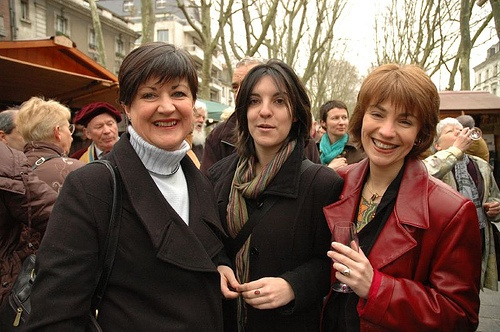head: (117, 39, 203, 155), (357, 64, 431, 168), (232, 56, 306, 160), (22, 99, 76, 164), (69, 100, 121, 162), (319, 99, 349, 142)
person: (5, 40, 232, 327), (319, 66, 485, 325), (203, 60, 342, 327), (1, 95, 85, 328), (421, 111, 500, 328), (1, 107, 28, 185), (317, 98, 347, 162), (191, 99, 207, 150)
